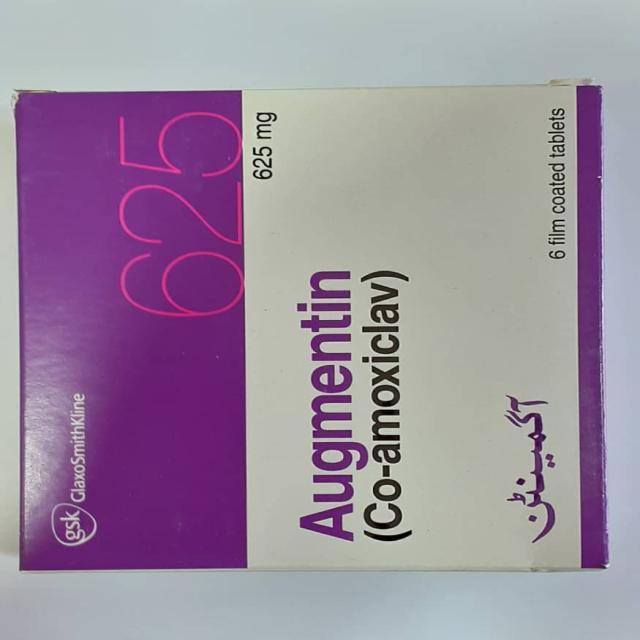drug-name: (292, 264, 368, 546)
